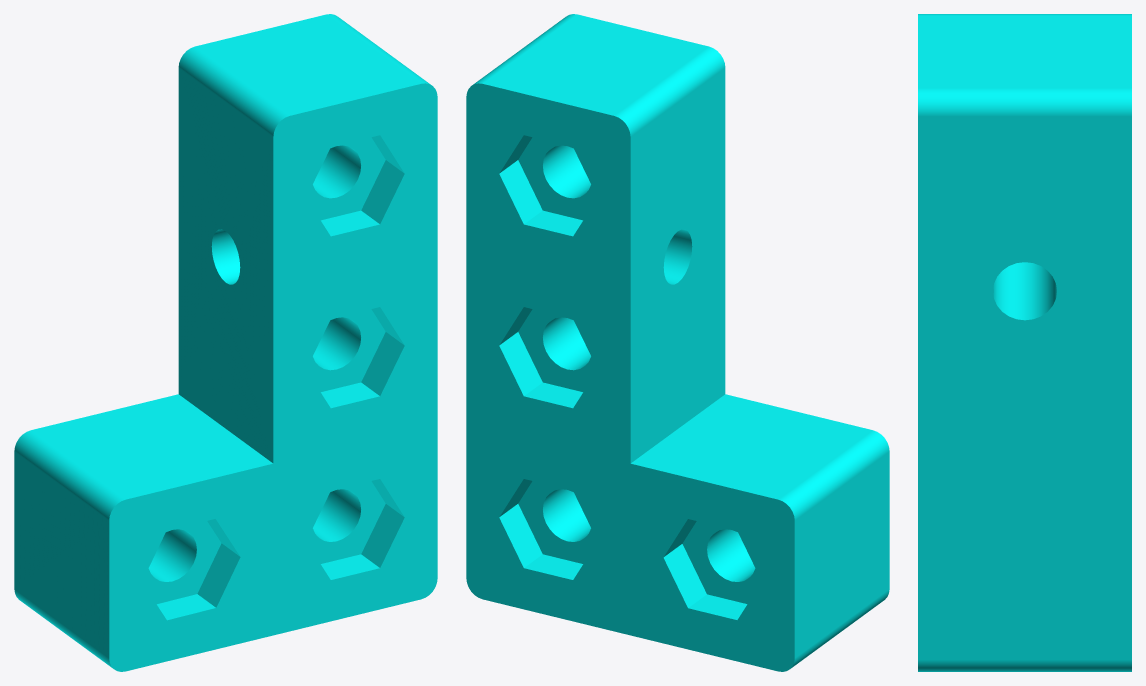
Rendered from L4S_blue.glb.
3 views of the same model, side by side, from view 1: azimuth 30°, elevation 25°; view 2: azimuth 150°, elevation 25°; view 3: azimuth 270°, elevation 25° (orthographic). The views are drawn at different scales.
Visible parts, largest first — view 1: L4S; view 2: L4S; view 3: L4S.
Part boxes in pixels (<box>): L4S: <box>14,14,437,671</box>; L4S: <box>466,14,889,671</box>; L4S: <box>918,14,1131,671</box>.
Bounding box in the file's own units: 0.02 × 0.03 × 0.01.
